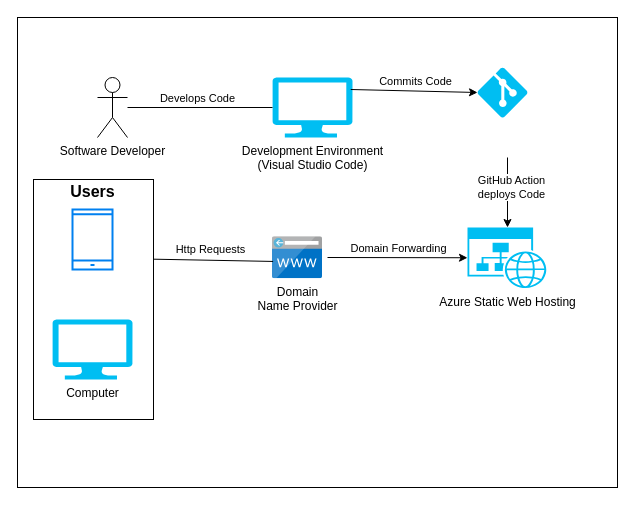
The diagram is 635 pixels wide and 505 high, and some of its shapes have lost their labels. The box of each missing label's shape, as (x1, y1, x2, y2) in pixels:
GitHub Repository: (477, 67, 527, 117)
Mobile: (71, 208, 113, 270)
